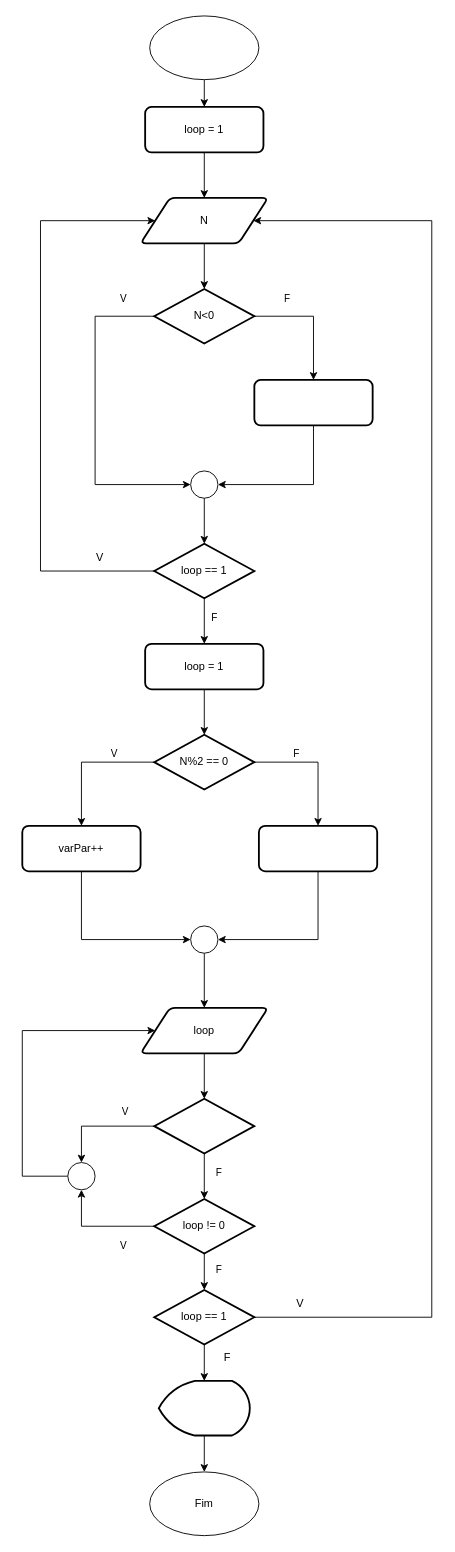
The diagram is 455 pixels wide and 1552 high, and some of its shapes have lost their labels. Each missing label, with the centre of its shape:
"Inicio" goes at (x=204, y=47).
"loop != 1" goes at (x=204, y=1125).
"loop = 0" goes at (x=313, y=402).
"varImpar++" goes at (x=318, y=848).
"varPar varImpar" goes at (x=203, y=1408).
